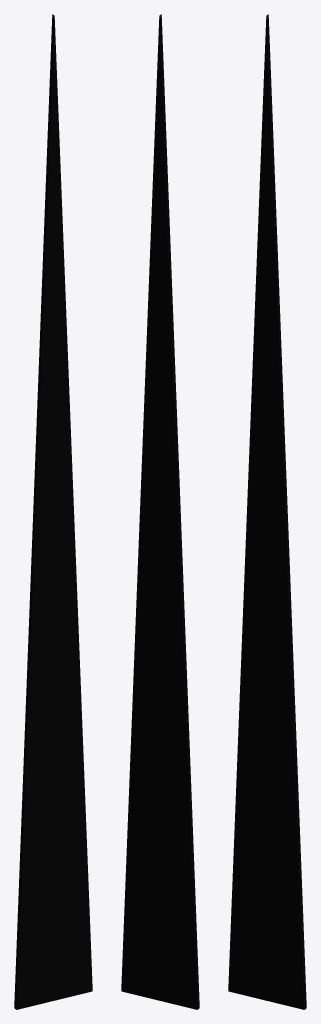
File: clock_tick.obj
3 renders of one model, left to right at view 1: azimuth 30°, elevation 25°; view 2: azimuth 150°, elevation 25°; view 3: azimuth 330°, elevation 25°, orthographic.
Parts seen in each view (by area): view 1: hr_hand_default.001; view 2: hr_hand_default.001; view 3: hr_hand_default.001.
Boxes of the visible parts, x1,y1,x2,y2 form: hr_hand_default.001: [14, 14, 92, 1009]; hr_hand_default.001: [121, 14, 199, 1009]; hr_hand_default.001: [228, 14, 306, 1009].
Bounding box in the file's own units: 0.1347 × 1.66 × 0.00733.
Materials: 1 (1 with a texture image).
